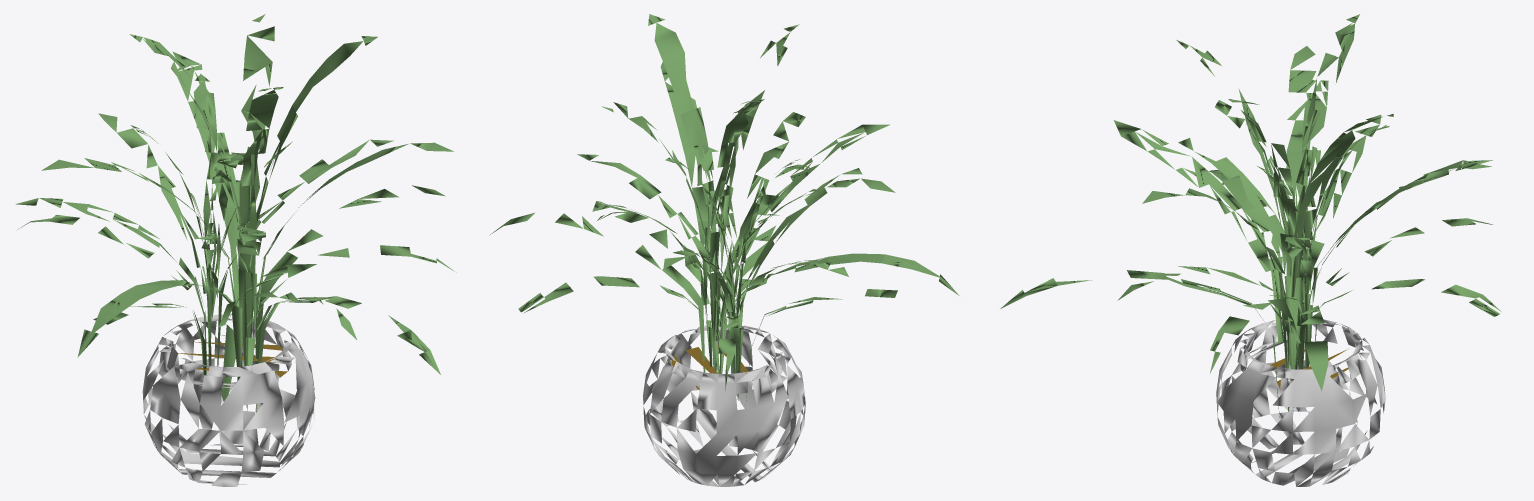
The model's file is plant.gltf.
3 views of the same model, side by side, from view 1: azimuth 30°, elevation 25°; view 2: azimuth 150°, elevation 25°; view 3: azimuth 270°, elevation 25° (orthographic). The views are drawn at different scales.
Visible parts, largest first — view 1: Potplant2_1, Potplant2_2; view 2: Potplant2_1, Potplant2_2; view 3: Potplant2_1, Potplant2_2.
Boxes of the visible parts, left/top/right/bottom form: Potplant2_1: left=15, top=14, right=456, bottom=414; Potplant2_2: left=142, top=314, right=315, bottom=486; Potplant2_1: left=489, top=14, right=959, bottom=408; Potplant2_2: left=643, top=324, right=805, bottom=486; Potplant2_1: left=1000, top=14, right=1501, bottom=417; Potplant2_2: left=1216, top=319, right=1385, bottom=486.
Bounding box in the file's own units: 0.2493 × 0.2201 × 0.248.
